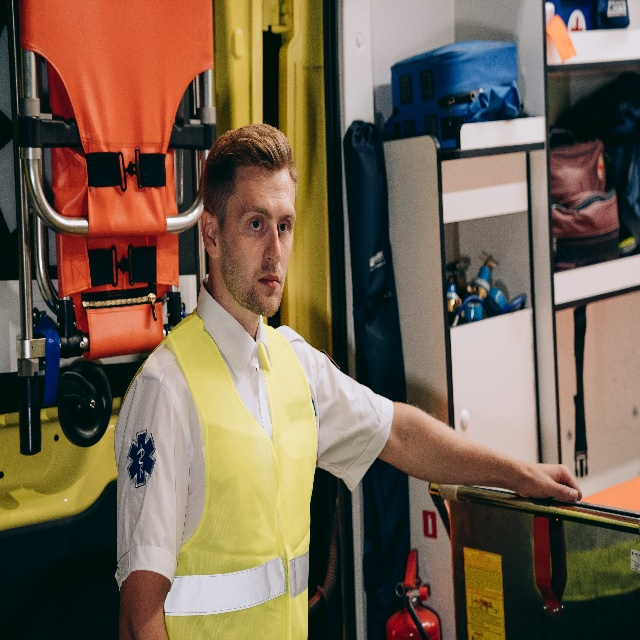Sin_guantes: (518, 456, 584, 508)
